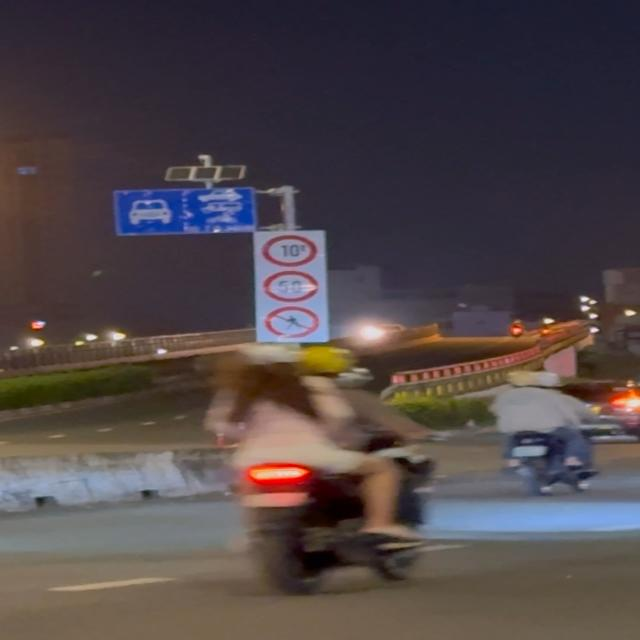Bien bao cam nguoi di bo: (265, 304, 320, 339)
Bien bao toc do toi da cho phep: (262, 270, 326, 304)
